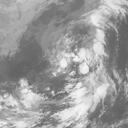cyclone: (53, 52, 107, 103)
